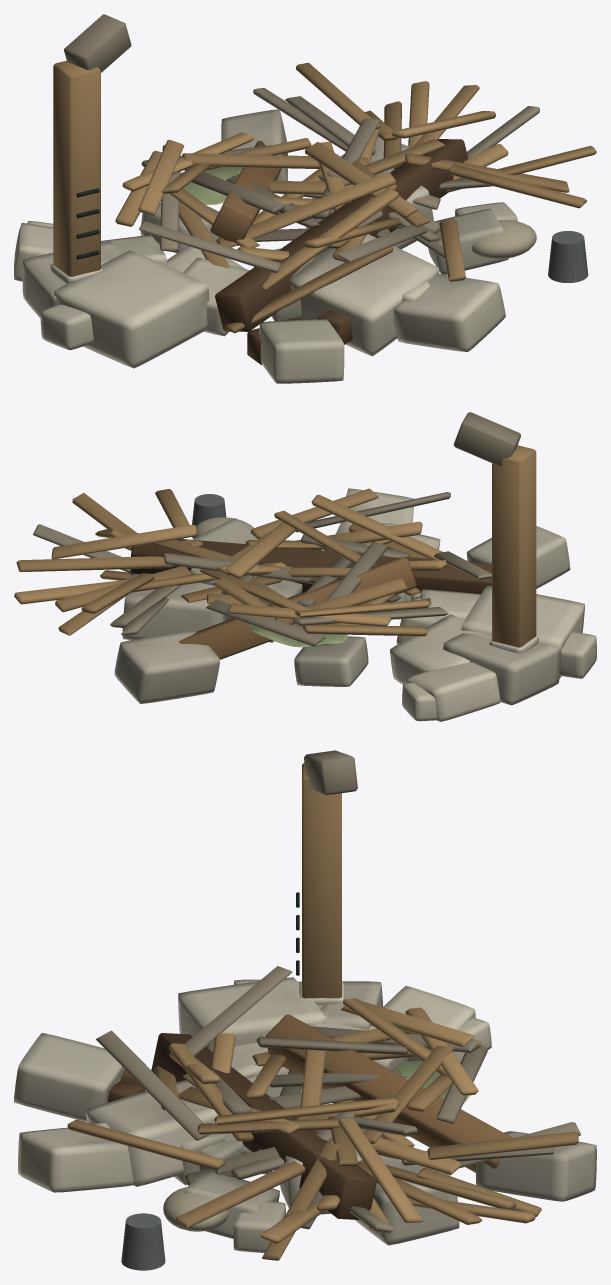
Rendered from gallery_collapse_a.glb.
The picture shows the model from 3 angles, top to bottom: view 1: azimuth 30°, elevation 25°; view 2: azimuth 150°, elevation 25°; view 3: azimuth 270°, elevation 25°; orthographic projection. The views are drawn at different scales.
Visible parts, largest first — view 1: Surface; view 2: Surface; view 3: Surface.
Part boxes in pixels (x1,y1,x2,y2): Surface: (14,14,596,383); Surface: (14,412,596,721); Surface: (14,750,596,1270).
Bounding box in the file's own units: 7.81 × 3.97 × 6.53.
